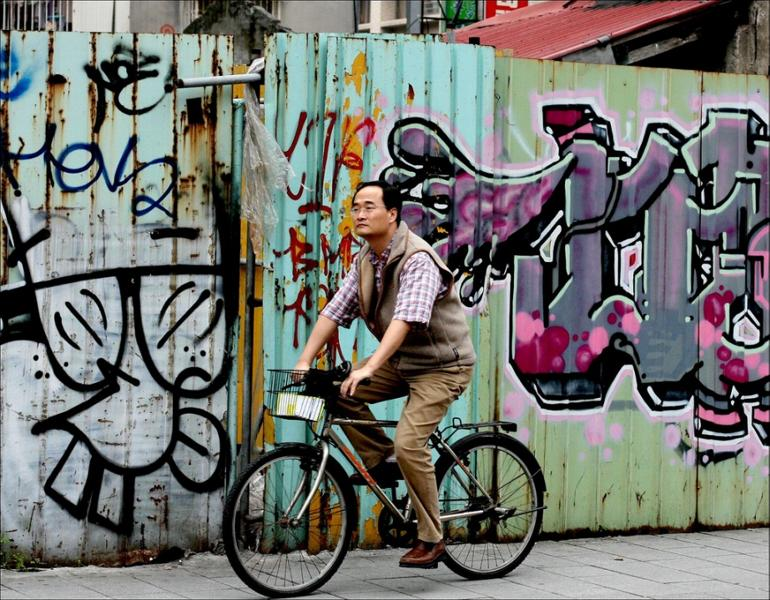person: (292, 185, 478, 568)
